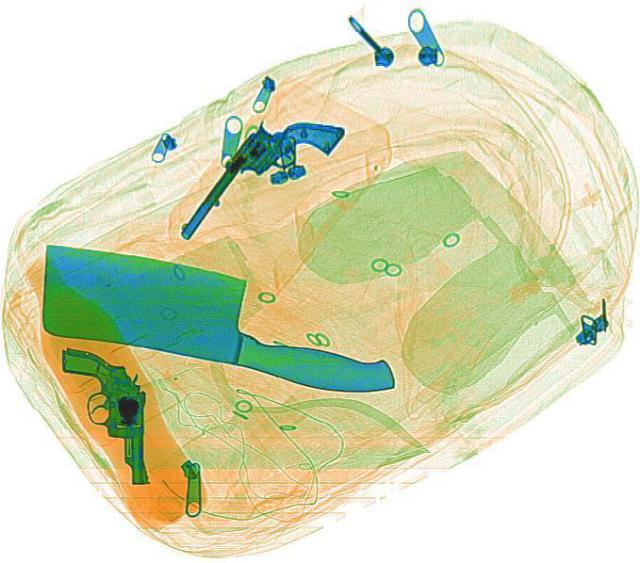Gun: (174, 93, 348, 266), (56, 342, 156, 487)
Knife: (22, 236, 420, 401)
